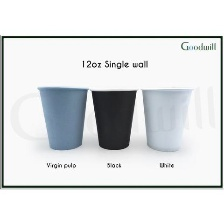paper_cup: (137, 82, 197, 155), (33, 81, 92, 154), (85, 82, 141, 153)
